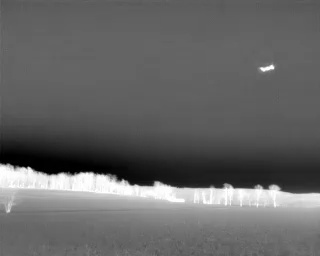DRONE: (255, 59, 279, 78)
